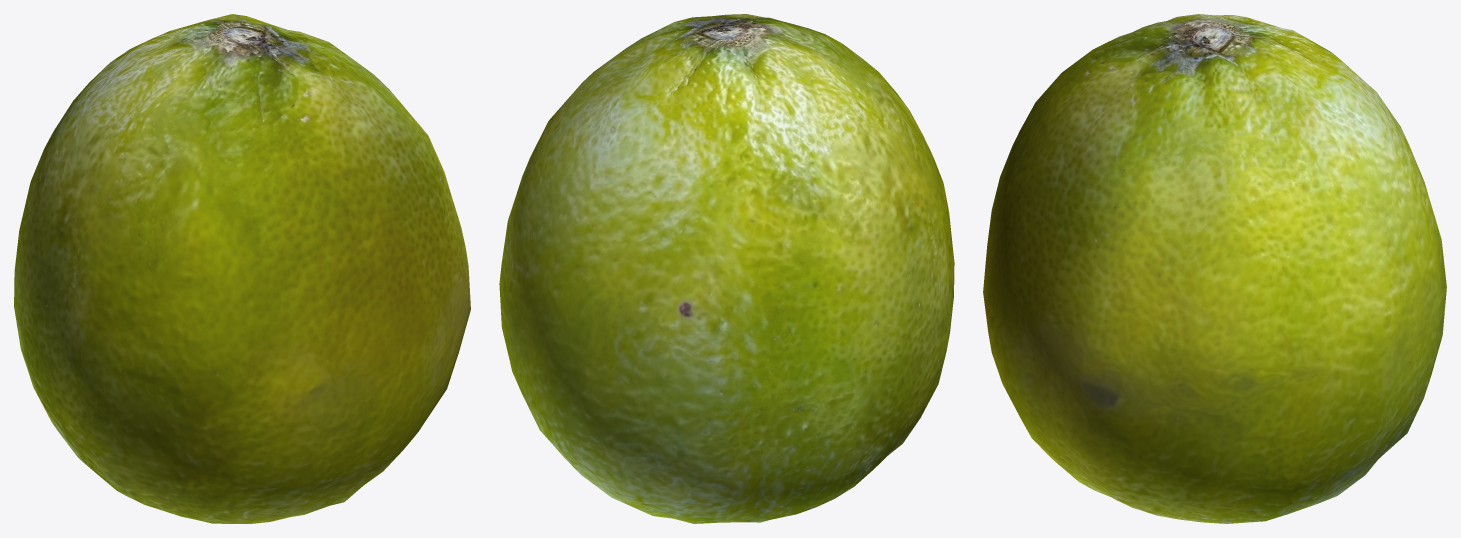
File: lime (1).glb
3 renders of one model, left to right at view 1: azimuth 30°, elevation 25°; view 2: azimuth 150°, elevation 25°; view 3: azimuth 270°, elevation 25°, orthographic.
Visible parts, largest first — view 1: Object_2; view 2: Object_2; view 3: Object_2.
Boxes of the visible parts, <box> form: Object_2: <box>14,14,470,523</box>; Object_2: <box>499,14,954,523</box>; Object_2: <box>983,14,1446,523</box>.
Bounding box in the file's own units: 0.5166 × 0.5989 × 0.5294.
1 material, 1 textured.
